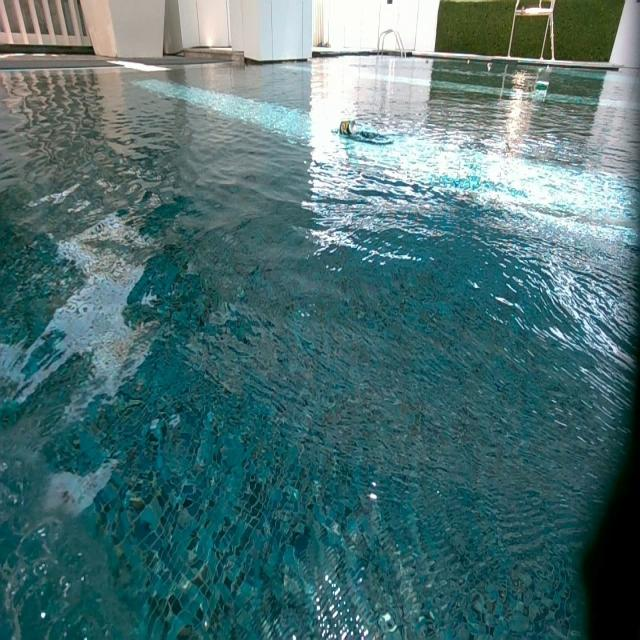Cans: (340, 120, 355, 137), (534, 80, 549, 90), (543, 66, 551, 75), (487, 62, 493, 72), (466, 60, 471, 65), (426, 59, 430, 65)
